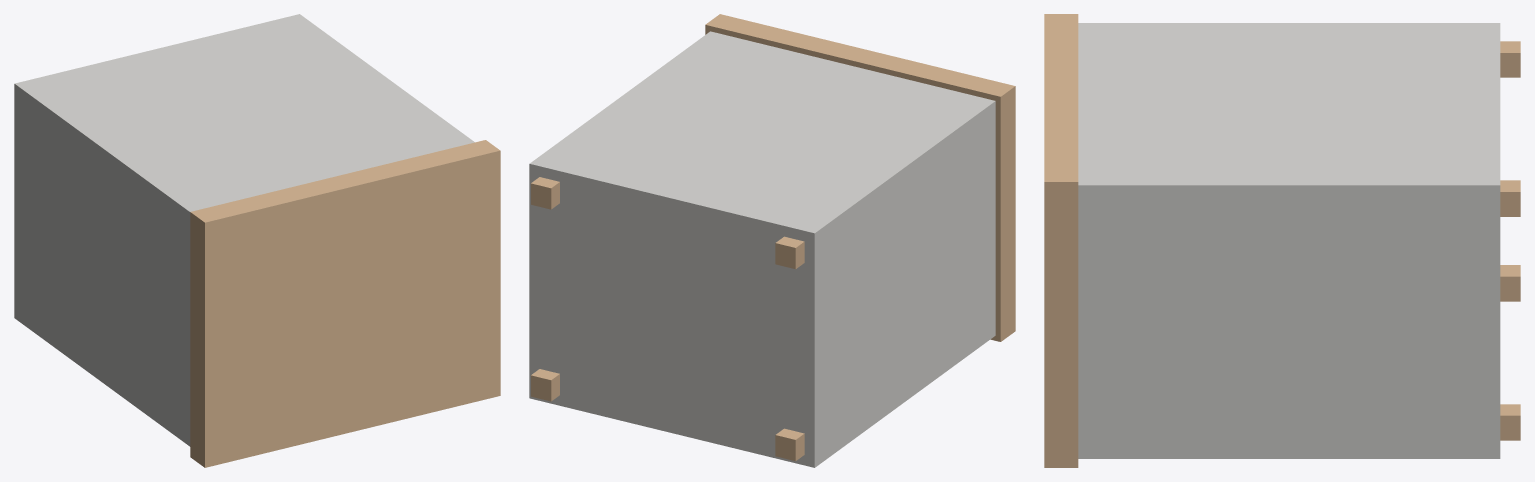
File: nightstand.glb
3 views of the same model, side by side, from view 1: azimuth 30°, elevation 25°; view 2: azimuth 150°, elevation 25°; view 3: azimuth 270°, elevation 25° (orthographic). The views are drawn at different scales.
Parts seen in each view (by area): view 1: world; view 2: world; view 3: world.
Part boxes in pixels (x1=…): world: x1=14, y1=14, x2=500, y2=467; world: x1=529, y1=14, x2=1015, y2=467; world: x1=1044, y1=14, x2=1520, y2=467.
Size of the model in its own units: 0.58 by 0.48 by 0.695.
